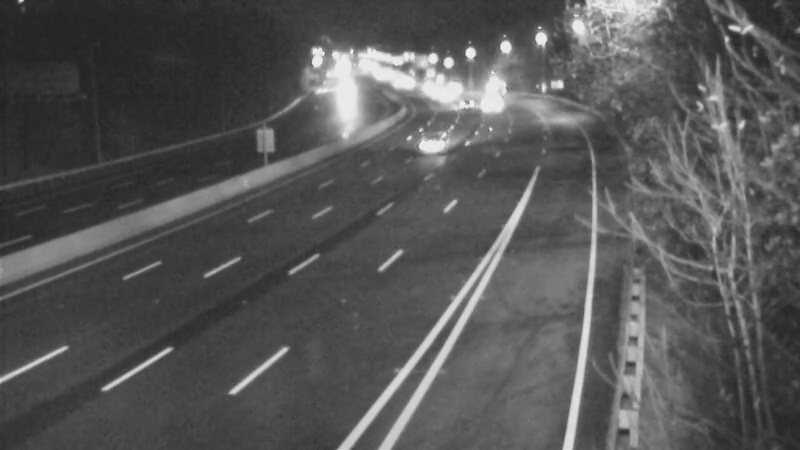vehicle: (398, 61, 448, 111), (467, 61, 517, 111), (435, 78, 485, 128), (463, 79, 513, 129), (414, 118, 464, 168)
